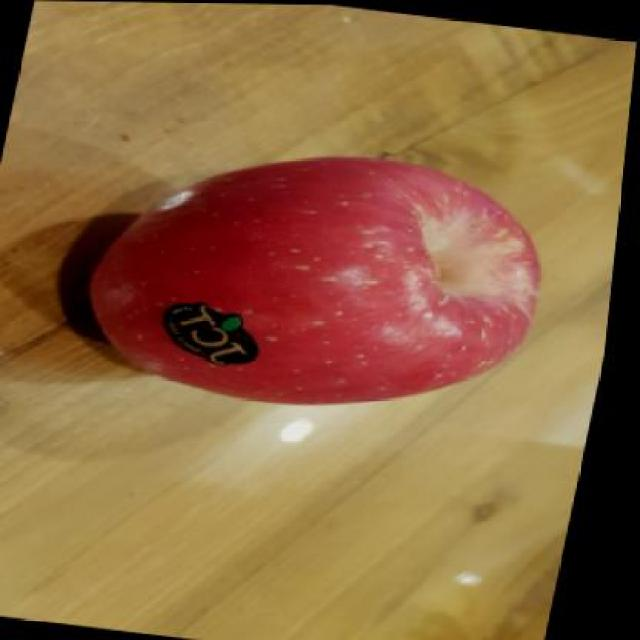Fresh Apple: (80, 147, 538, 426)
